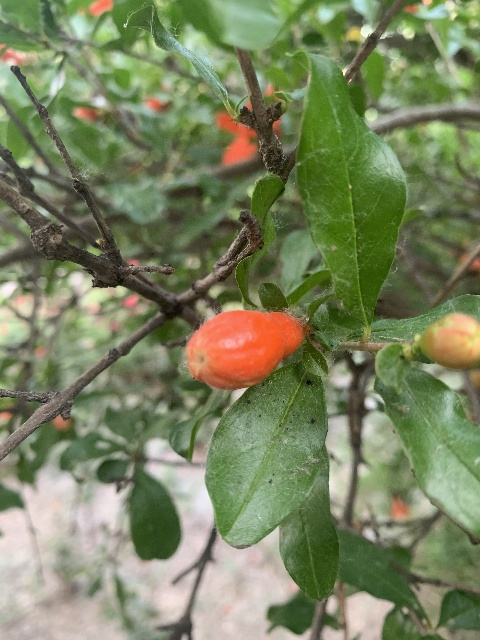bud: (185, 309, 307, 390), (420, 313, 480, 370)
flower: (215, 88, 282, 167)
